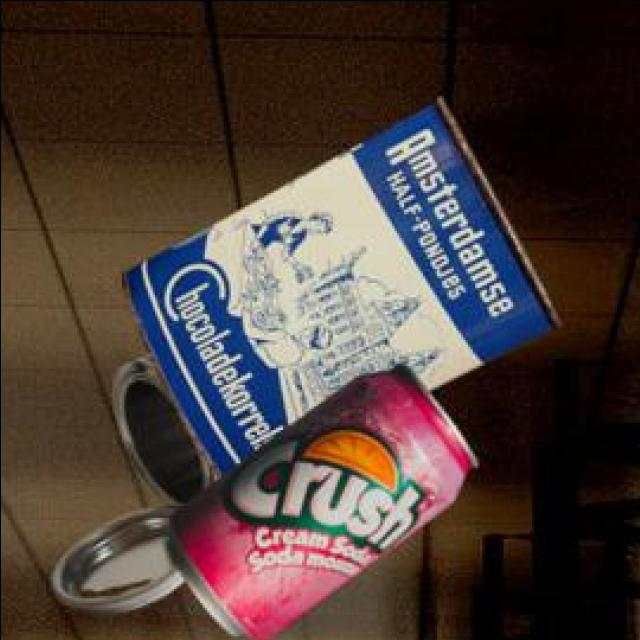logam: (127, 101, 563, 480), (172, 366, 480, 640), (53, 359, 222, 615)
